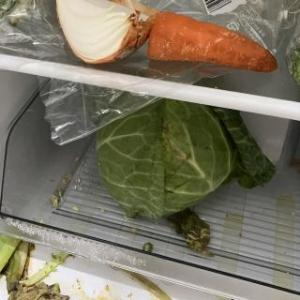cabbage: (92, 90, 275, 224)
carrot: (146, 9, 278, 73)
onion: (54, 0, 156, 66)
